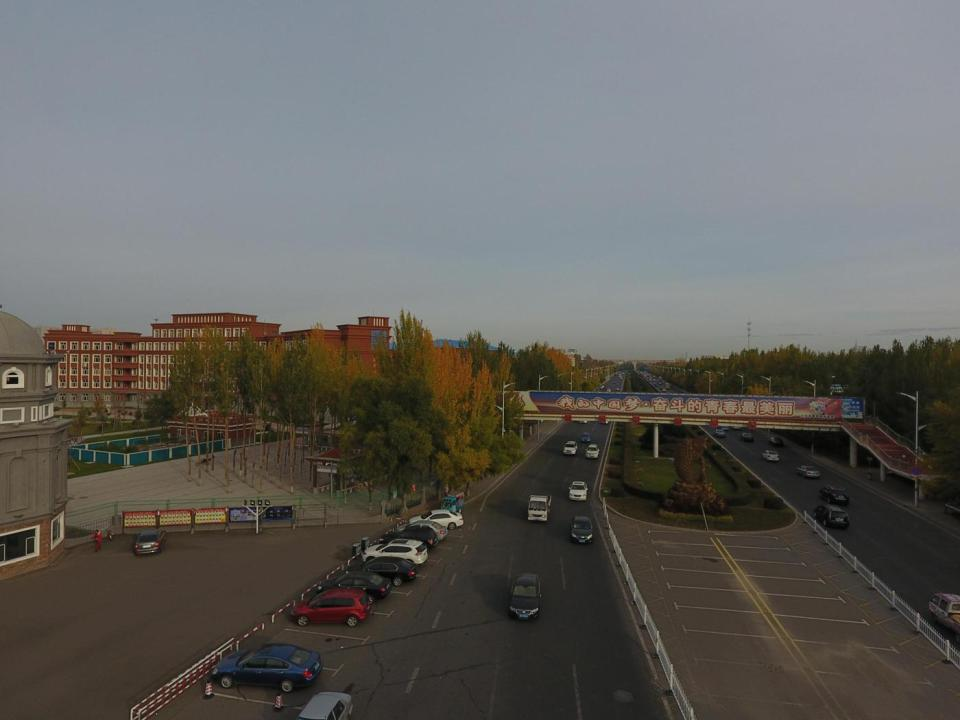car: (213, 642, 322, 692), (291, 588, 372, 626), (347, 555, 420, 587), (317, 570, 393, 600), (361, 538, 428, 566), (295, 691, 356, 720), (508, 572, 539, 620), (408, 508, 464, 532), (384, 526, 438, 550), (397, 520, 448, 540), (133, 527, 168, 555), (814, 505, 850, 530), (570, 515, 594, 546), (818, 484, 851, 505), (796, 463, 822, 480), (569, 479, 588, 502), (584, 442, 601, 459), (563, 440, 578, 456), (762, 448, 780, 461), (767, 436, 785, 448), (739, 433, 754, 443), (580, 432, 590, 442)
truck: (928, 592, 960, 634), (528, 492, 550, 524)
van: (713, 428, 726, 438)
